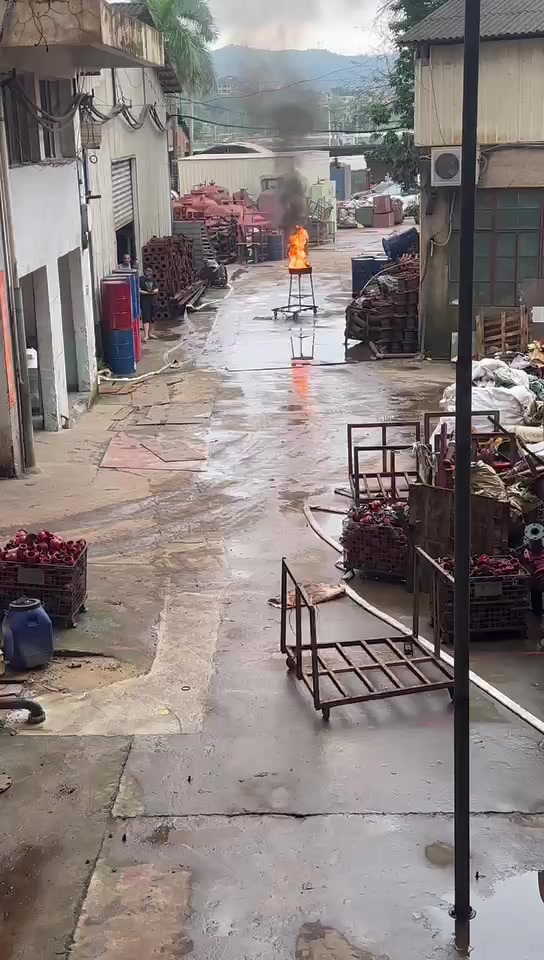fire: (288, 227, 311, 267)
